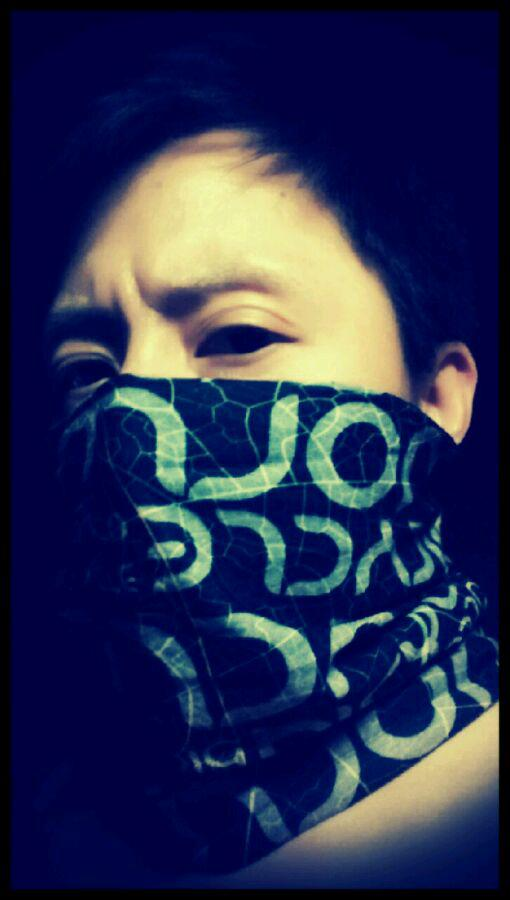OK: (31, 251, 406, 626)
